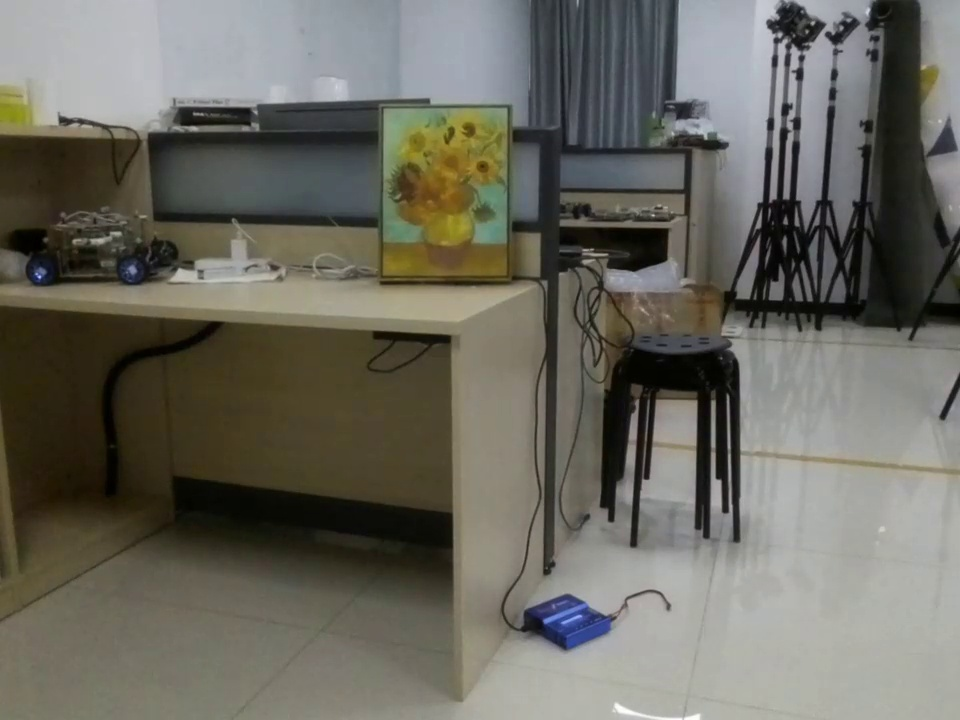painting: (376, 103, 522, 288)
